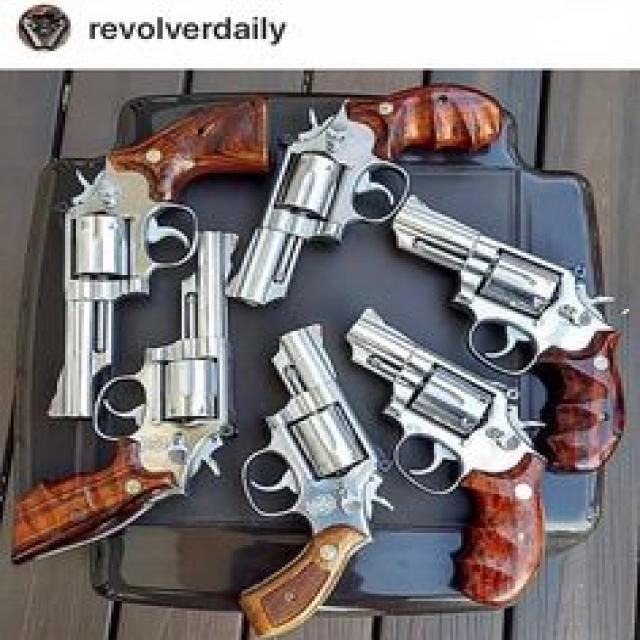revolver: (0, 81, 608, 434)
